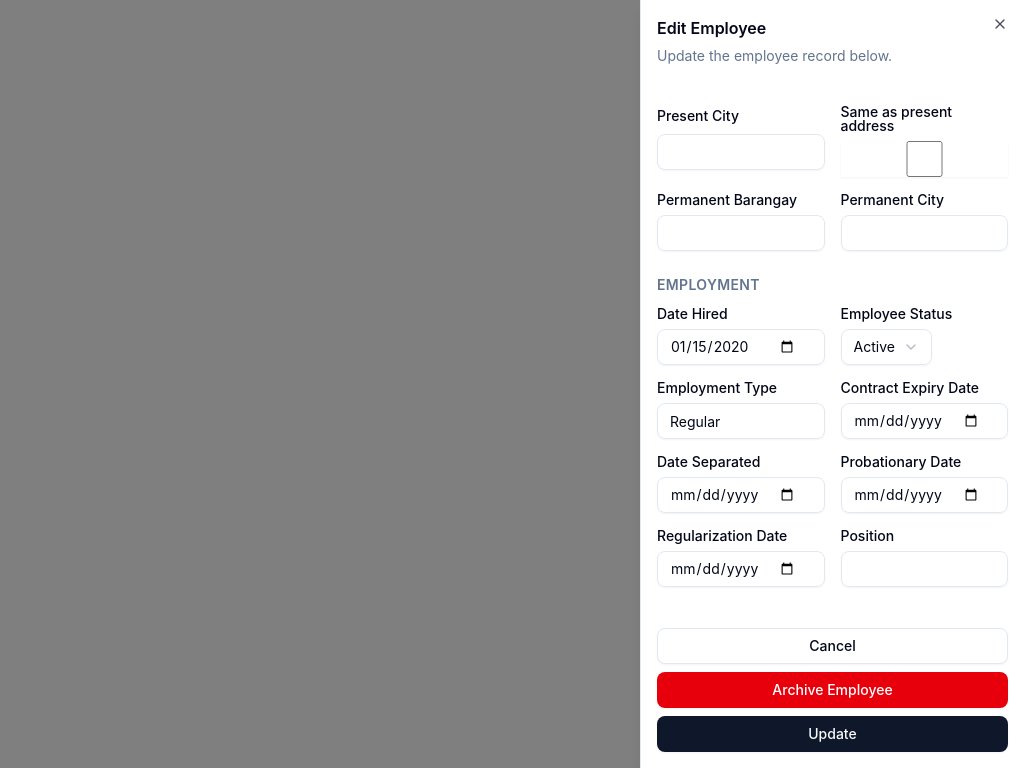
Scenario: Employees ResourceForm (§8.5 create/edit/modal) › pre-fills the form when editing an existing employee
(page scrolled)
Check: the button with test id "resource-form-archive-button" is shown, box [657,672,1008,708]
# Confirm the status select opened and shows the current status as an option.
Click the dropdown named "Employee Status". click: (886, 347)
box: [840,329,932,365]
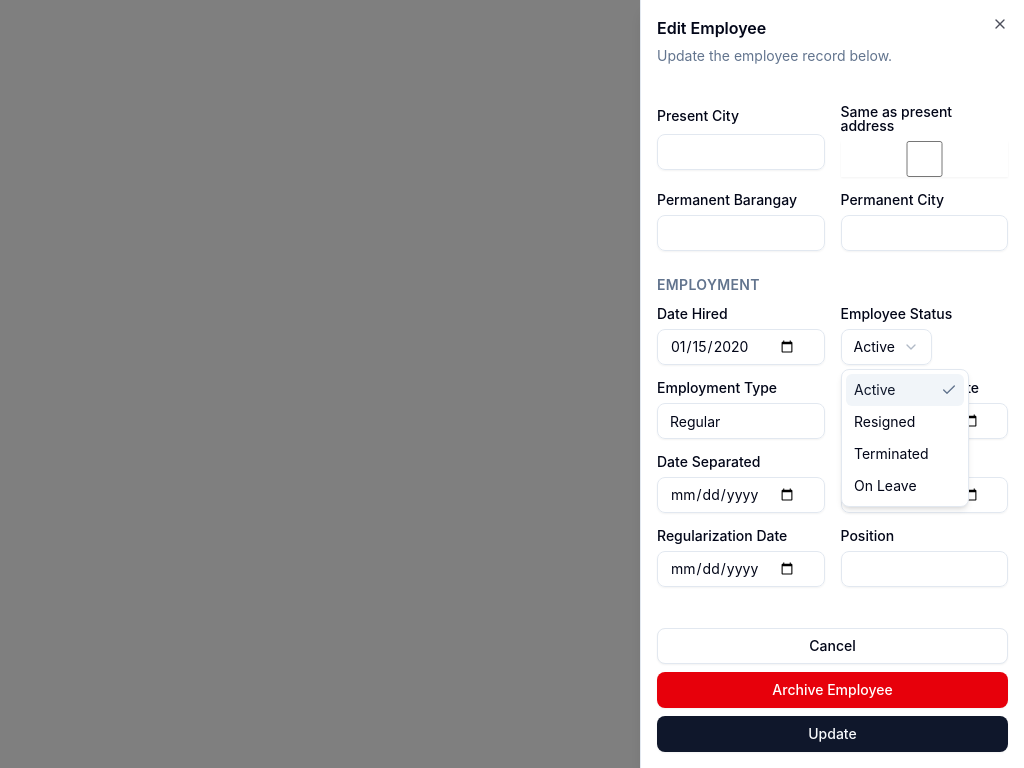
Check: the option "Active" is shown, box [846,374,964,406]
